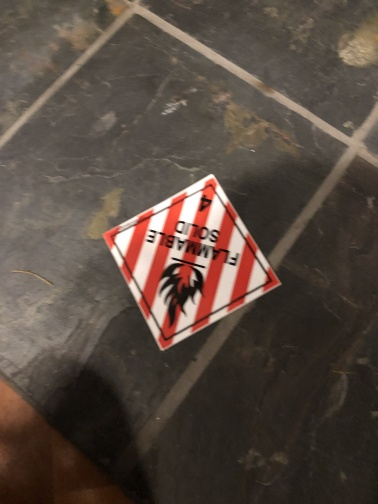FlammableSolid: (110, 183, 272, 344)
